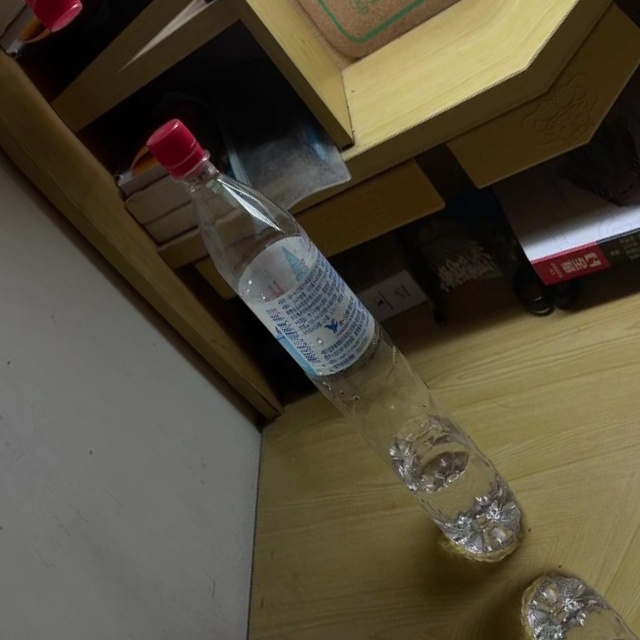Water: (121, 97, 548, 581)
